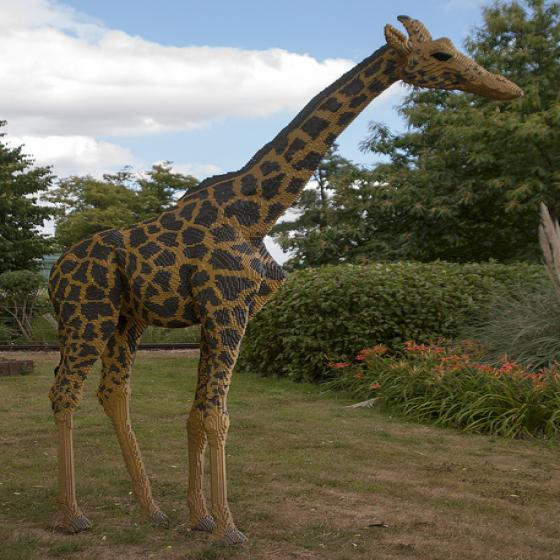giraffe: (42, 15, 532, 547)
